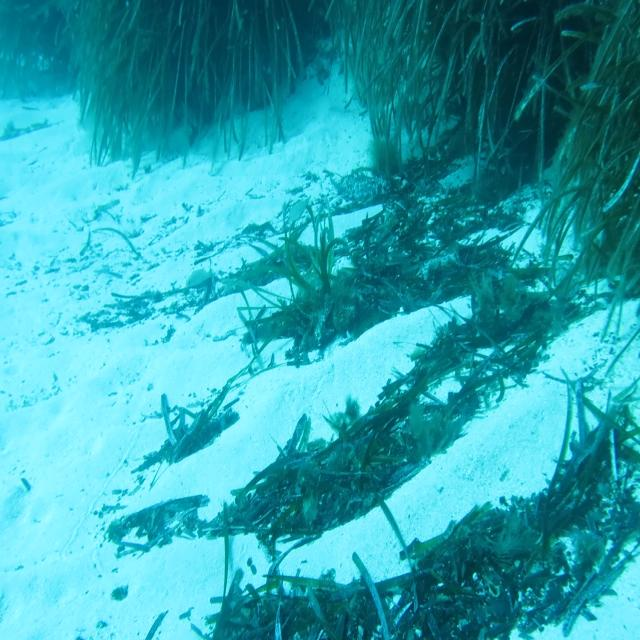BN: (186, 269, 215, 288)
female: (279, 186, 314, 233)
vegetation: (207, 286, 562, 544), (207, 430, 640, 640), (344, 0, 600, 165), (87, 0, 276, 99), (370, 234, 472, 290), (268, 294, 358, 336), (94, 514, 187, 546)
